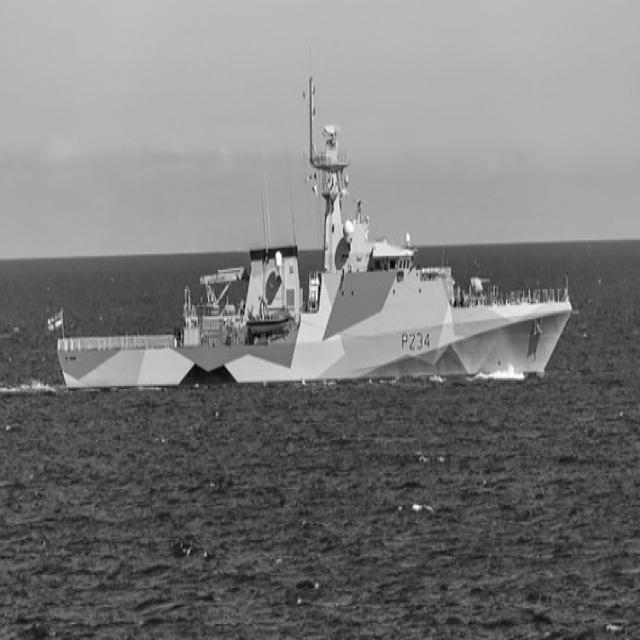Naval: (42, 35, 578, 446)
